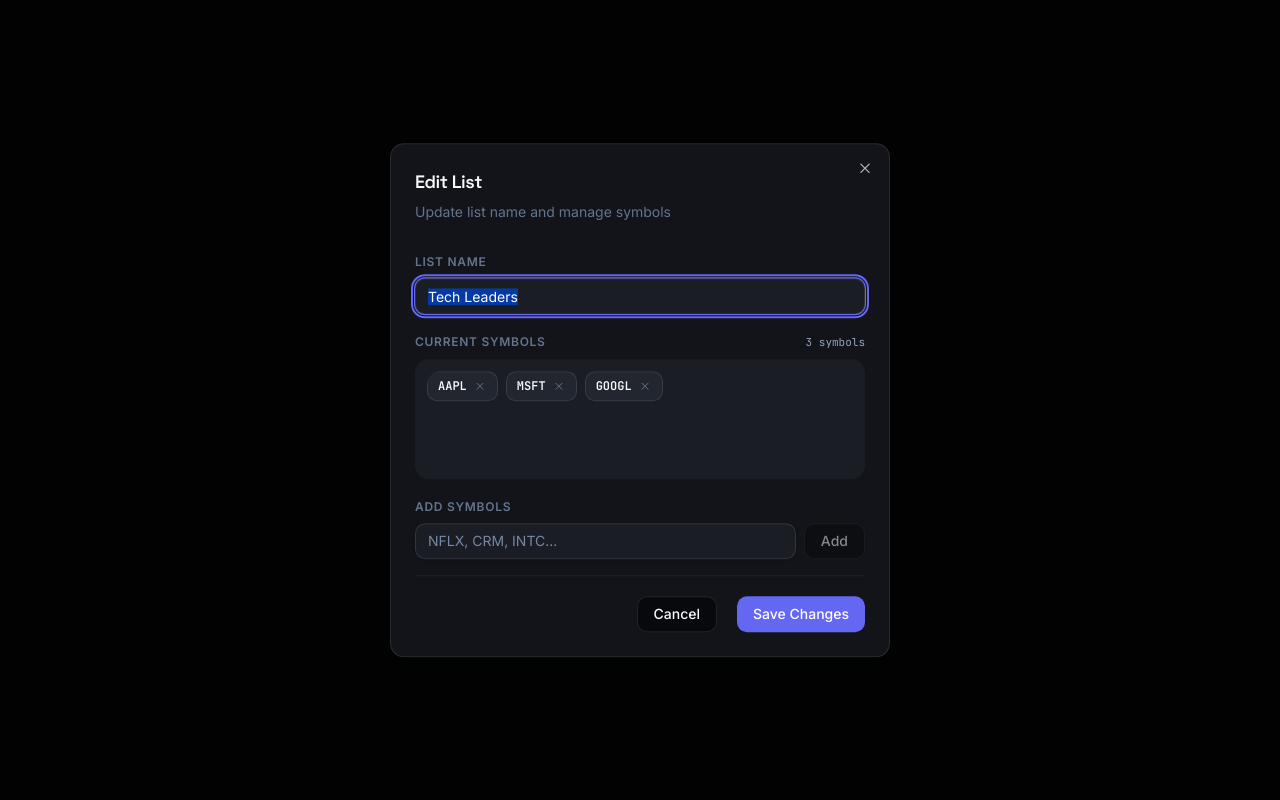
Test: EditListDialog › Adding Symbols › adds new symbols via input
Type "NVDA, TSLA" into the field with placeholder "NFLX, CRM, INTC..." at [605, 541], box [415,523,796,559]
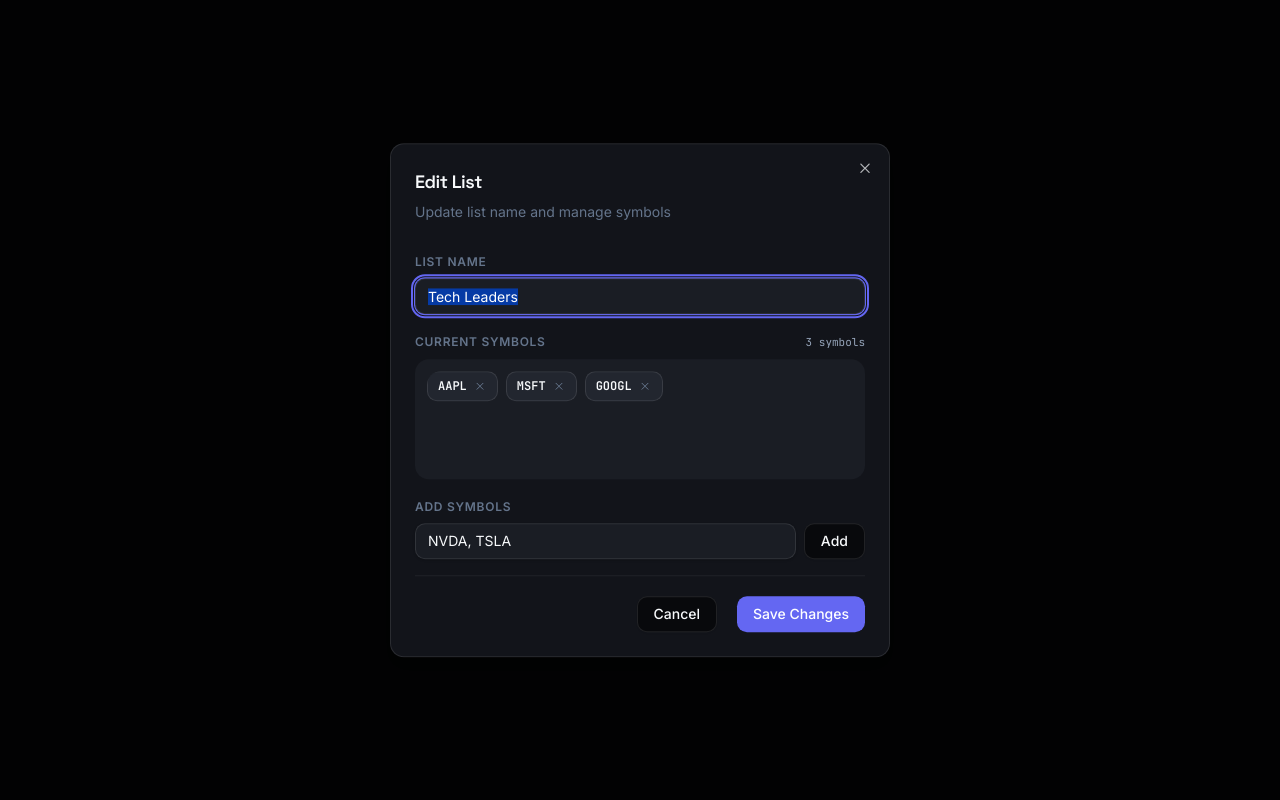
Click the button "Add" at [834, 541], box [804,523,865,559]
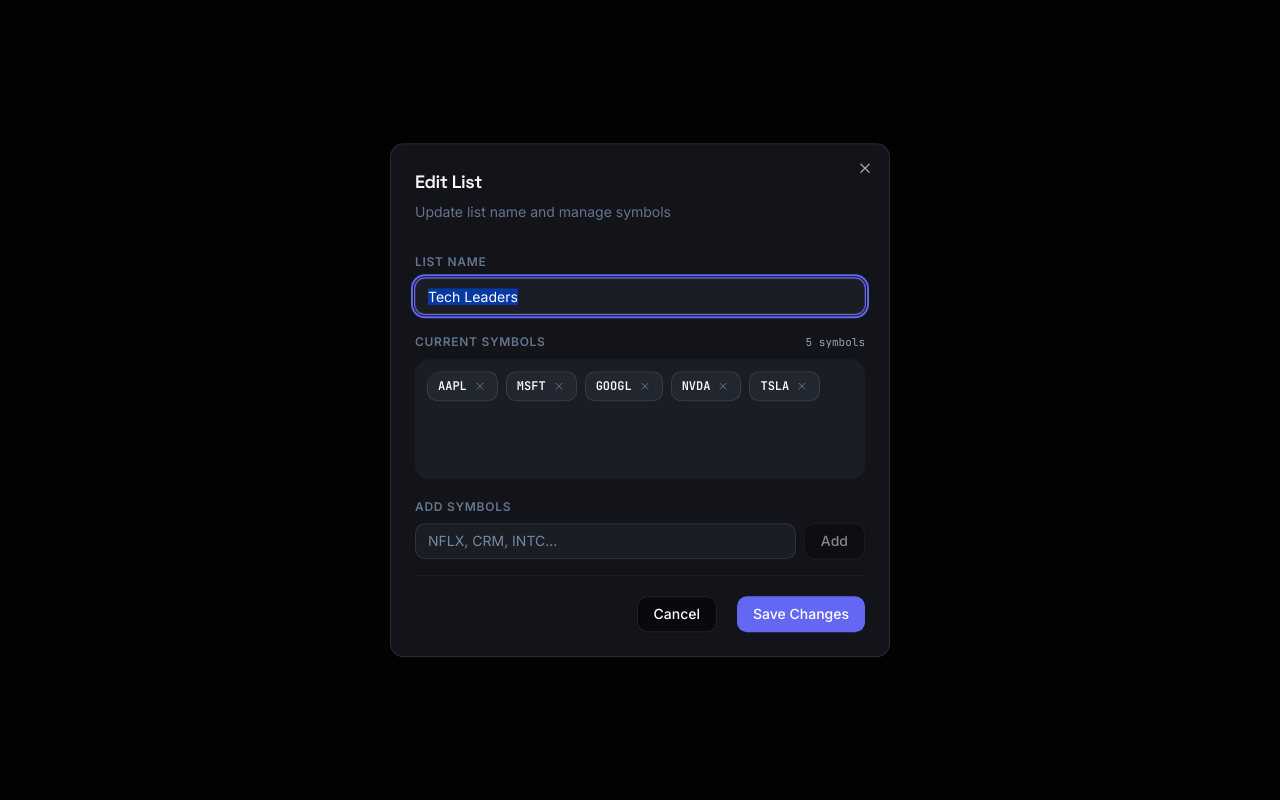
Now the text "NVDA" is shown, box [682,378,710,394]
Now the text "TSLA" is shown, box [760,378,789,394]
